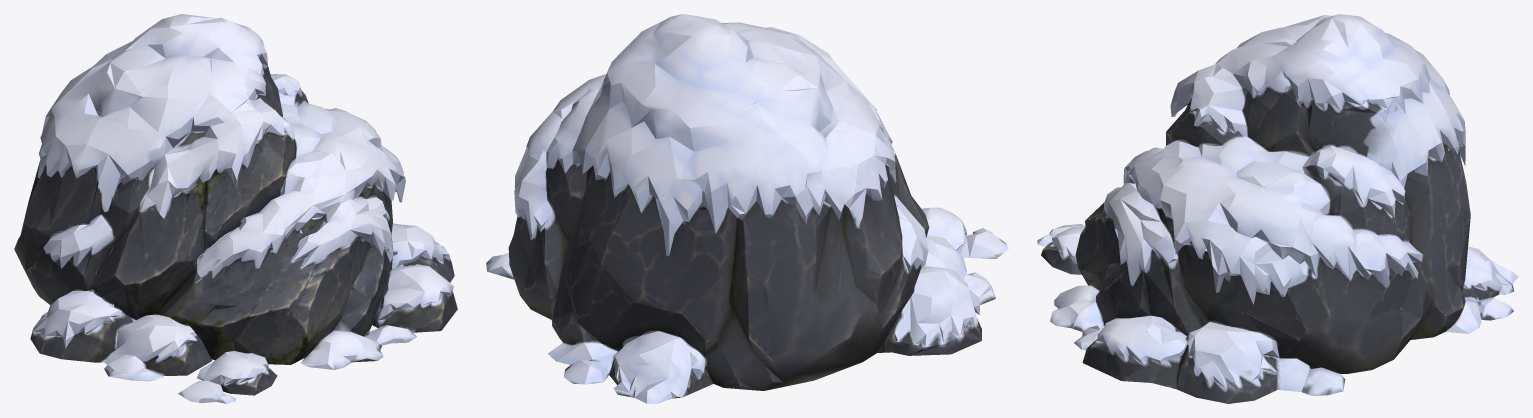
Rendered from rock_snow.glb.
The picture shows the model from 3 angles, left to right: view 1: azimuth 30°, elevation 25°; view 2: azimuth 150°, elevation 25°; view 3: azimuth 270°, elevation 25°; orthographic projection. The views are drawn at different scales.
Visible parts, largest first — view 1: output_unwrapped; view 2: output_unwrapped; view 3: output_unwrapped.
Part boxes in pixels (x1=…): output_unwrapped: x1=14, y1=14, x2=457, y2=403; output_unwrapped: x1=486, y1=14, x2=1008, y2=403; output_unwrapped: x1=1037, y1=14, x2=1518, y2=403.
Bounding box in the file's own units: 1.9 × 1.15 × 1.84.
1 material, 1 textured.
